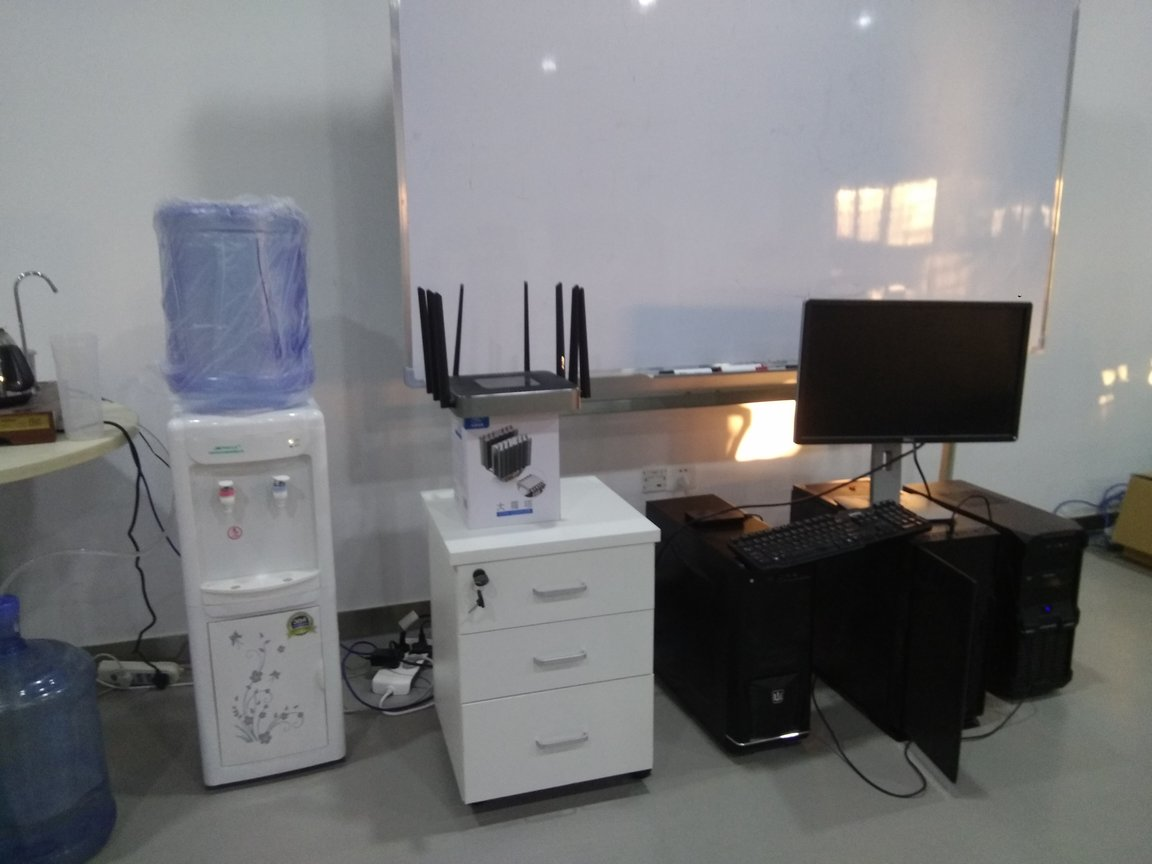computer: (794, 476, 999, 765), (648, 488, 824, 763), (907, 473, 1078, 708)
drawer chest: (422, 474, 673, 805)
monitor: (793, 290, 1035, 540)
scuttlebutt: (154, 192, 323, 418), (1, 579, 121, 863)
water dispenser: (165, 401, 361, 800)
